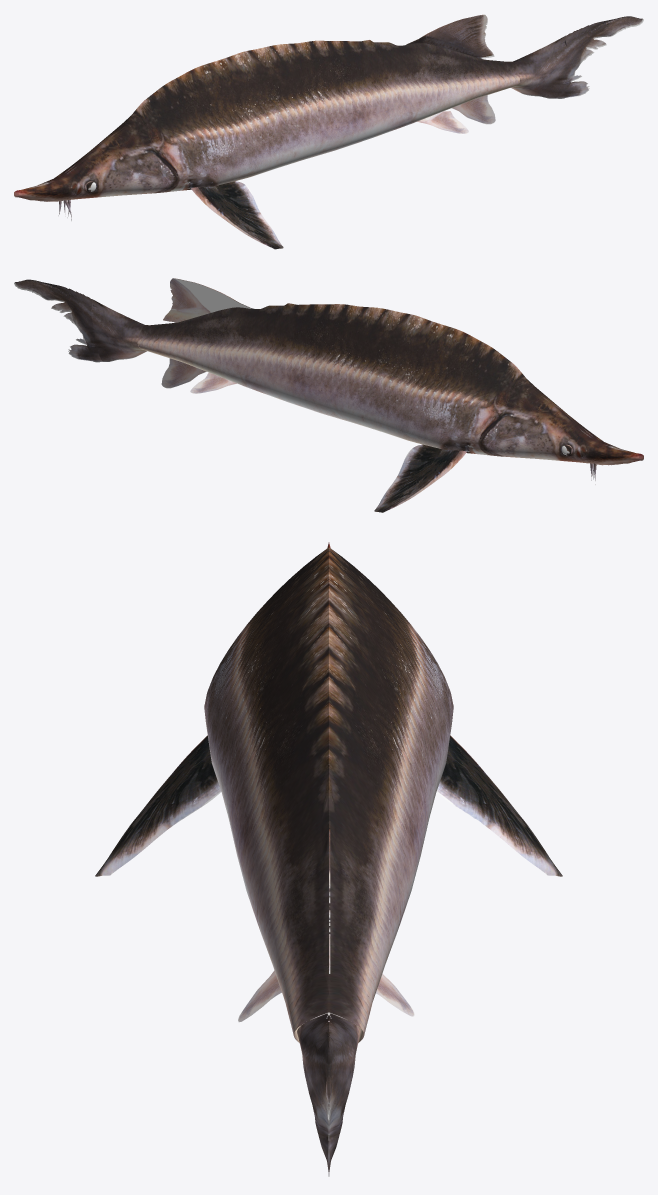
Rendered from Sturgeon.fbx.
3 renders of one model, top to bottom at view 1: azimuth 30°, elevation 25°; view 2: azimuth 150°, elevation 25°; view 3: azimuth 270°, elevation 25°, orthographic. The views are drawn at different scales.
Parts seen in each view (by area): view 1: 空白, LAYER02, Sturgeon_3; view 2: 空白, LAYER02, Sturgeon_3, 实例_2; view 3: 空白, LAYER02, Sturgeon_3.
Boxes of the visible parts, box(x1,y1,x2,y2) form: 空白: box(14, 40, 536, 249); LAYER02: box(511, 16, 643, 98); Sturgeon_3: box(406, 14, 495, 134); 空白: box(121, 303, 643, 512); LAYER02: box(14, 279, 146, 362); Sturgeon_3: box(161, 278, 251, 388); 实例_2: box(190, 372, 236, 393); 空白: box(95, 542, 562, 1118); LAYER02: box(297, 1013, 360, 1176); Sturgeon_3: box(238, 821, 330, 1022).
Bounding box in the file's own units: 8253 × 1876 × 2654.
Materials: 3 (3 with a texture image).
